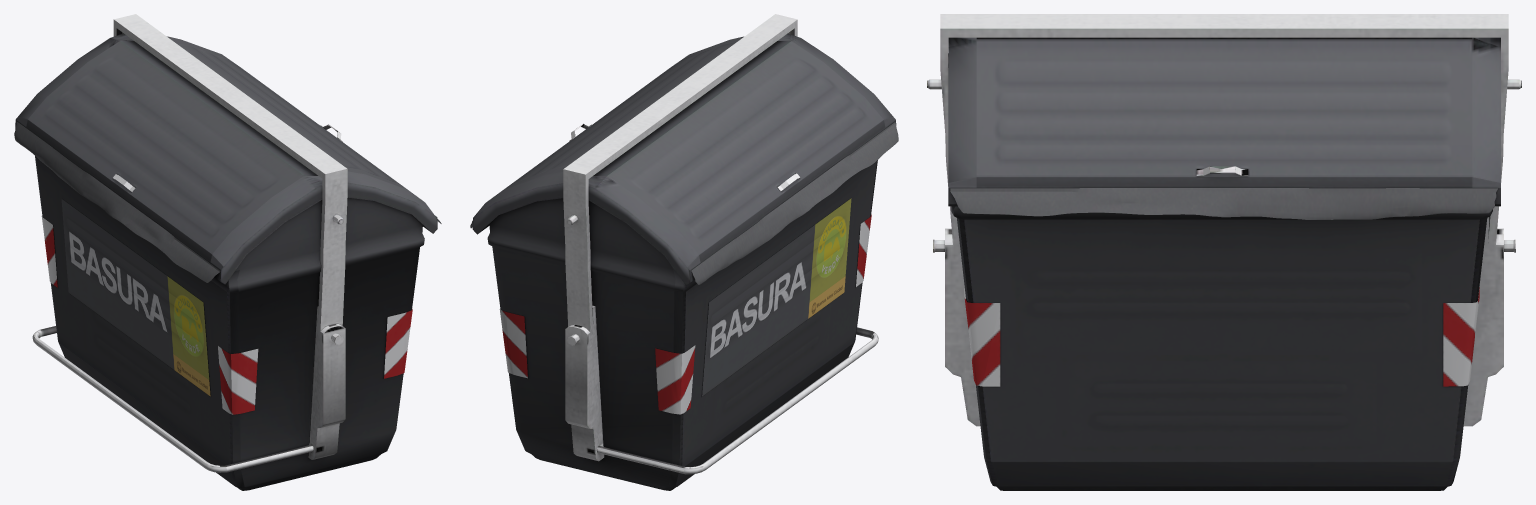
File: trash_dumpster_buenos_aires.glb
The picture shows the model from 3 angles, left to right: view 1: azimuth 30°, elevation 25°; view 2: azimuth 150°, elevation 25°; view 3: azimuth 270°, elevation 25°; orthographic projection. The views are drawn at different scales.
Visible parts, largest first — view 1: dumpster, door1, door2, handle; view 2: dumpster, door1, door2, handle; view 3: dumpster, door2.
Part boxes in pixels (x1,y1,x2,y2): dumpster: (35,14,424,490); door1: (14,33,322,284); door2: (167,36,441,233); handle: (32,326,313,472); dumpster: (487,14,877,490); door1: (588,33,898,284); door2: (470,36,743,234); handle: (596,327,878,474); dumpster: (927,14,1521,490); door2: (948,37,1500,219).
Size of the model in its own units: 85.55 by 108 by 136.
1 material, 1 textured.
